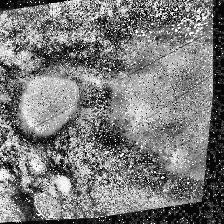pothole: (82, 10, 222, 202), (4, 68, 90, 148), (30, 190, 72, 222), (55, 172, 78, 196)
